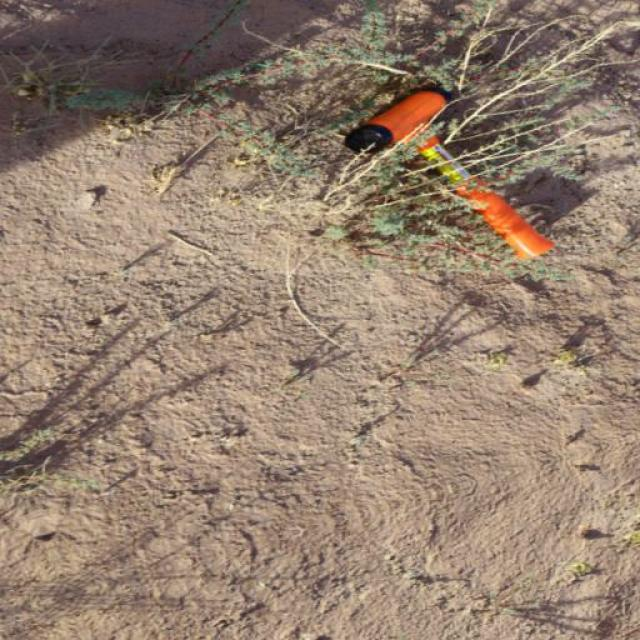mallet: (341, 82, 555, 262)
